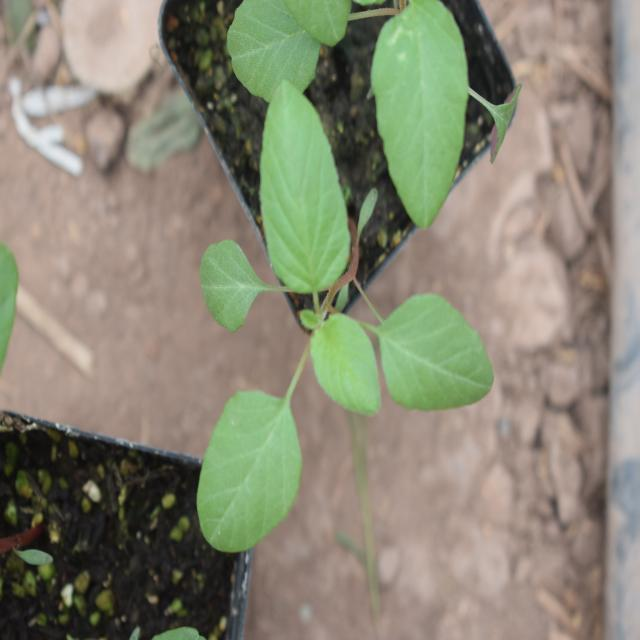pigweed: (190, 96, 504, 561)
